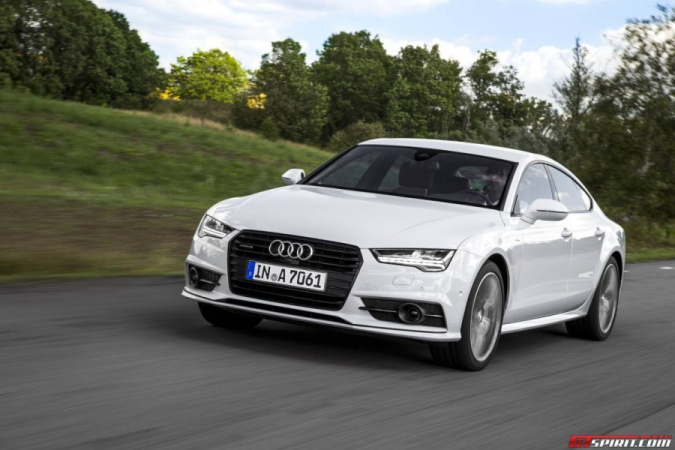audi: (265, 234, 315, 265)
